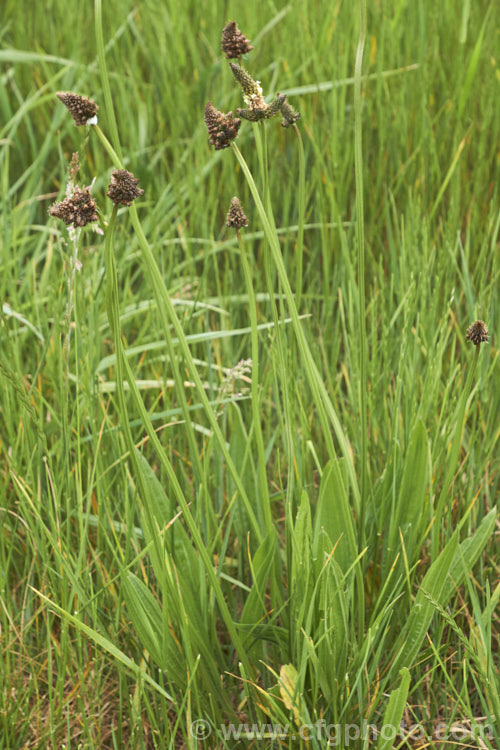buckhorn plantain: (30, 24, 443, 671)
